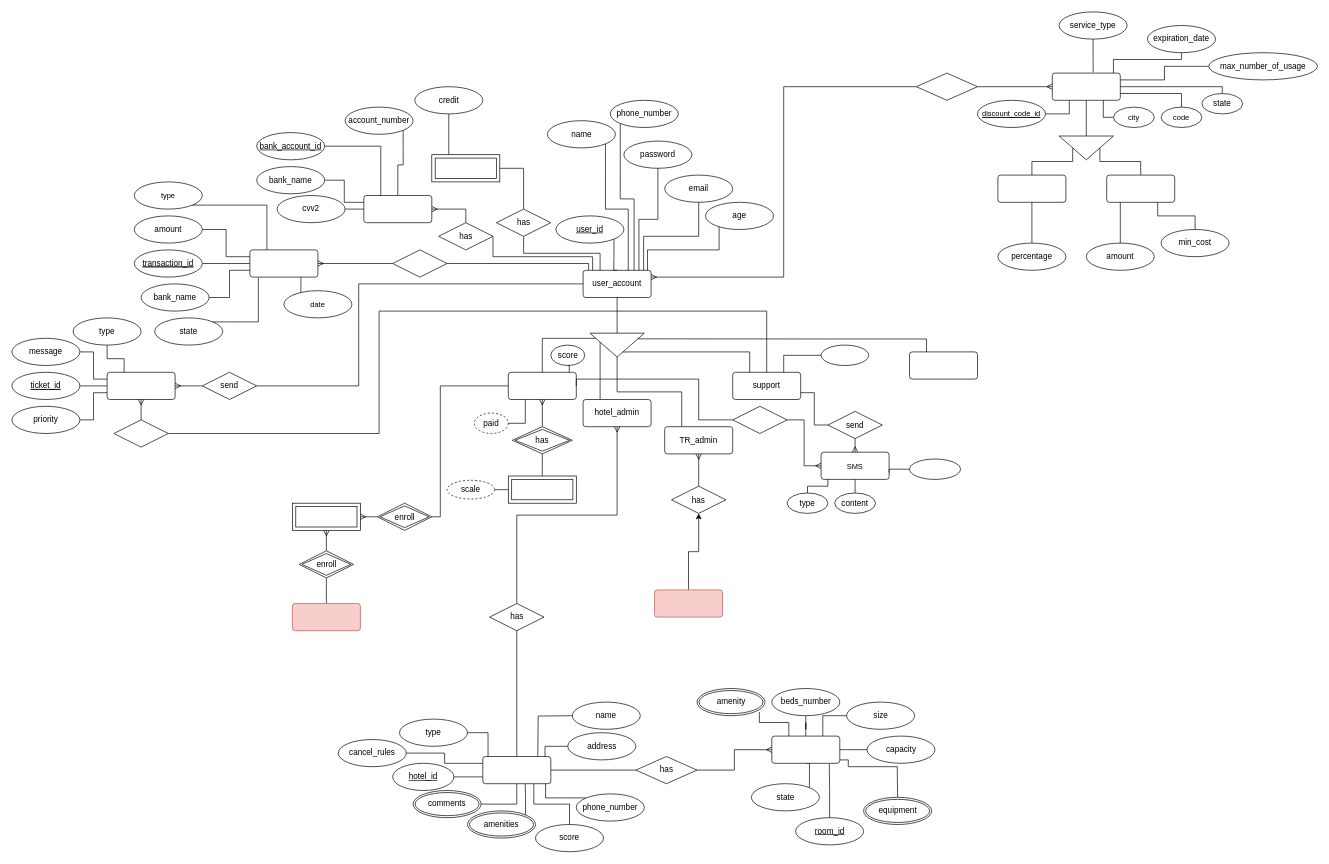
The diagram is 1329 pixels wide and 864 high, and some of its shapes have lost their labels. Here are the shapes that lost their labels. From the top down, the centre of each, then its label:
the point at 947,86: give/receive
the point at 1086,86: discount_code
the point at 465,168: wallet
the point at 1031,188: percent_discount
the point at 1140,188: constant_discount
the point at 397,209: bank_account
the point at 283,263: bank_transaction
the point at 419,263: does
the point at 844,355: supporter_id
the point at 943,365: marketing
the point at 140,386: ticket
the point at 542,386: cutomer
the point at 140,433: examine
the point at 759,420: receive
the point at 935,468: SMS_id
the point at 542,489: customers_club
the point at 326,516: search_history
the point at 326,617: trip
the point at 688,603: company
the point at 805,749: room
the point at 516,770: hotel
